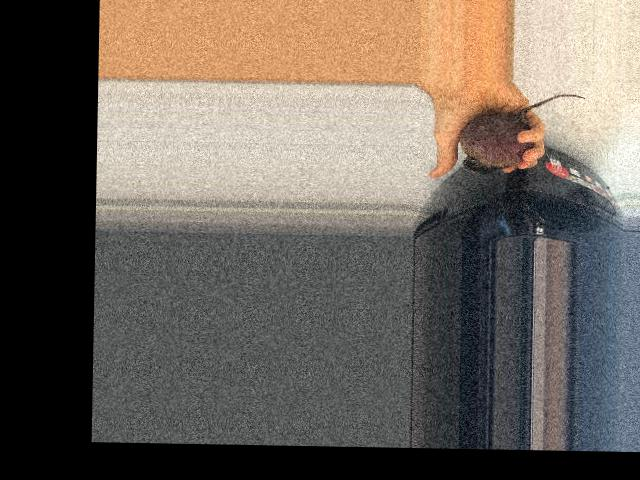beet: (460, 91, 586, 175)
